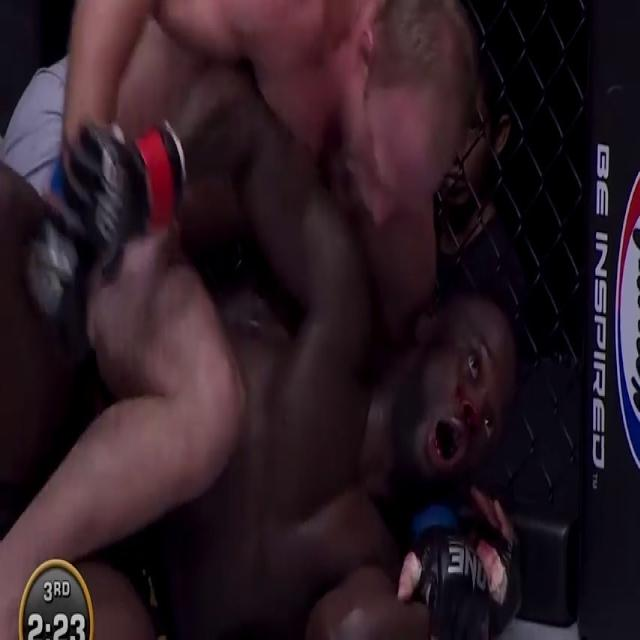fight: (0, 0, 541, 639)
